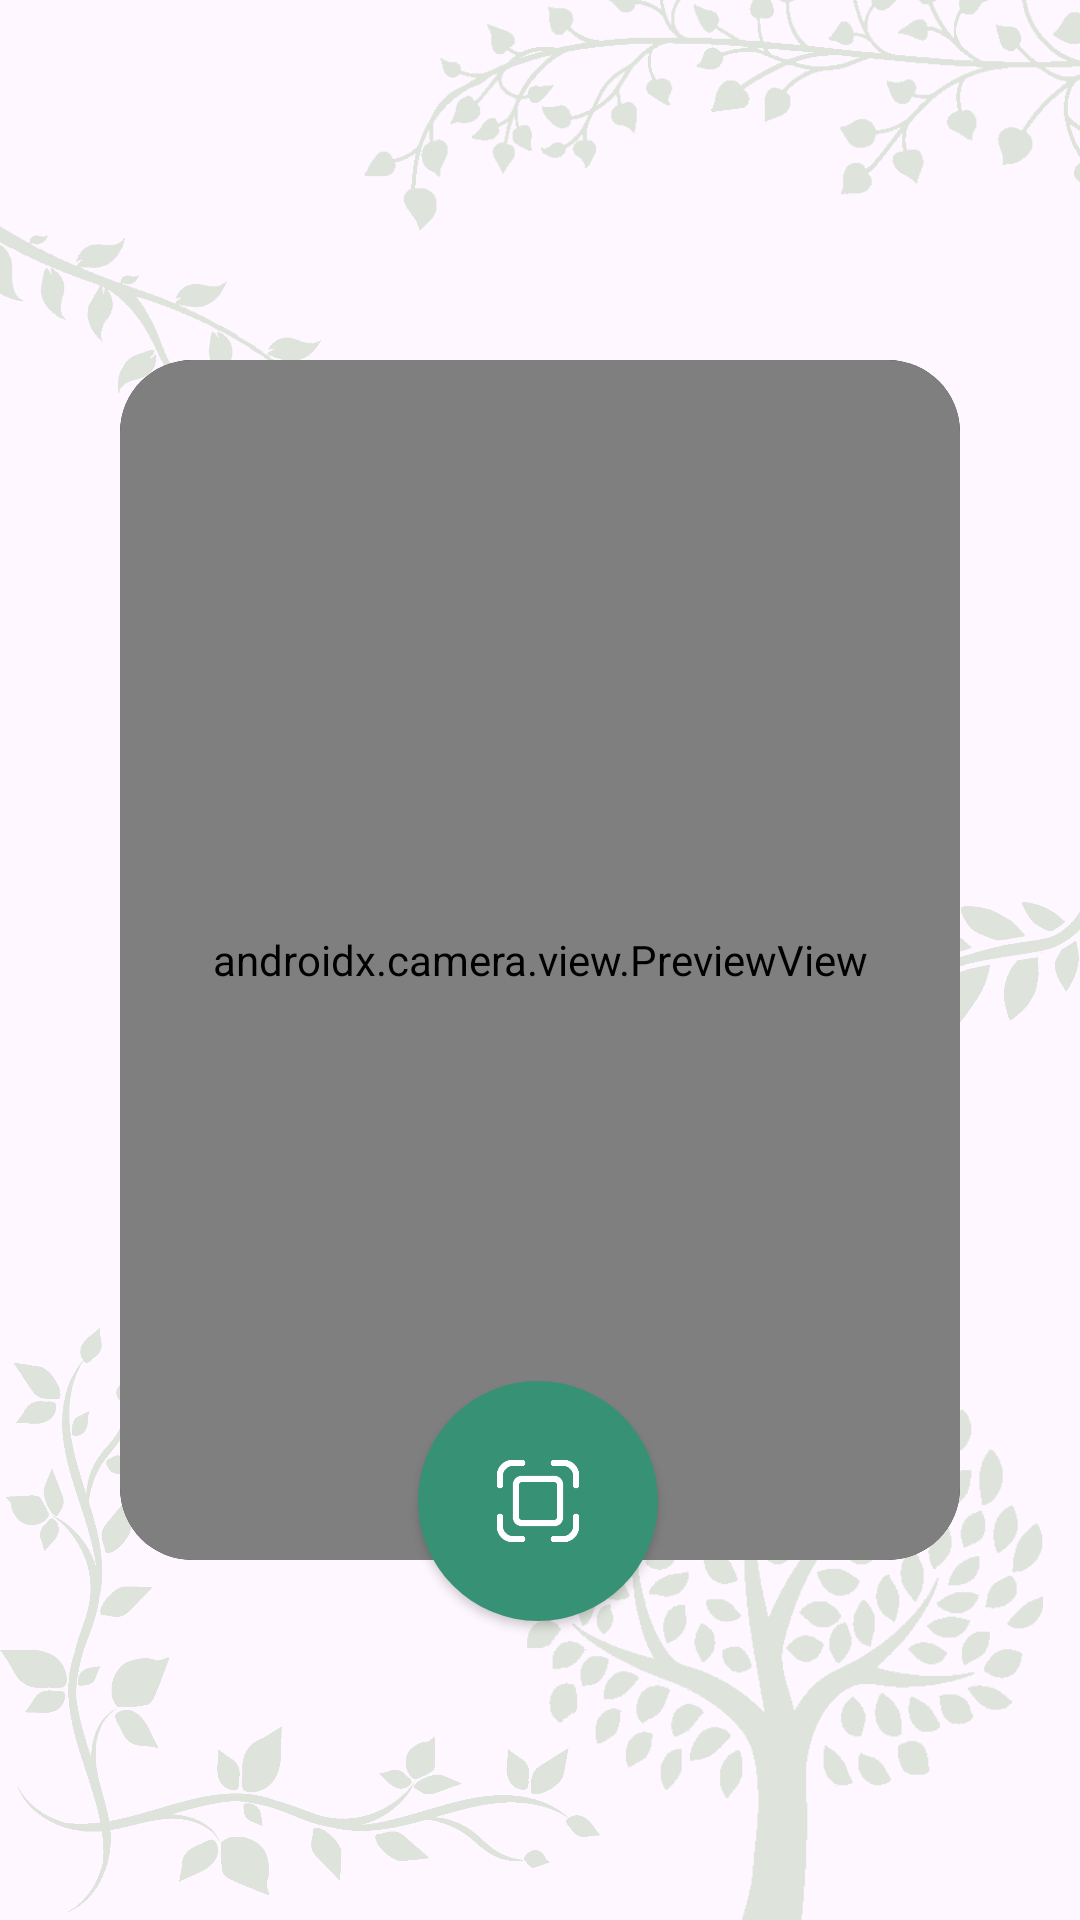

Icon bounding boxes for this 1080×1920 phone screenshot, format bbox(x1, y1, x2, y2):
scan: bbox(418, 1381, 658, 1621)
